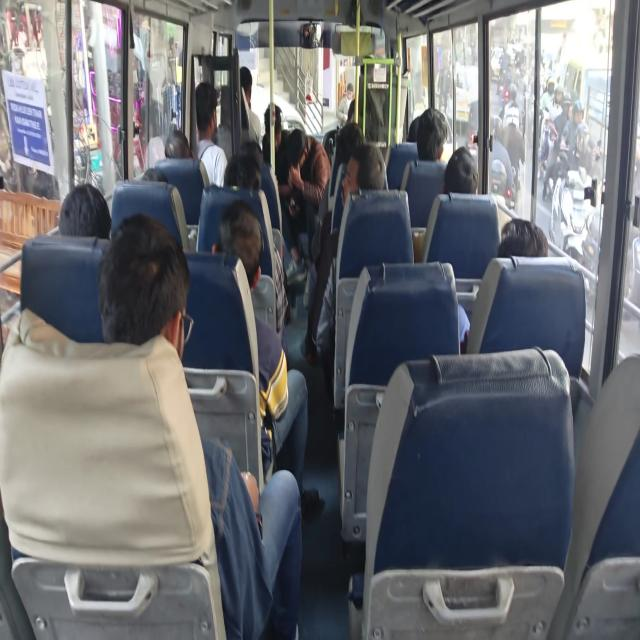person: (106, 240, 202, 323), (220, 161, 278, 224), (209, 197, 262, 250), (491, 206, 534, 269), (114, 159, 172, 201), (62, 183, 107, 237), (449, 143, 489, 198), (149, 106, 193, 152), (185, 86, 228, 131), (326, 119, 367, 163), (343, 147, 384, 185), (416, 109, 449, 152), (259, 82, 286, 122), (282, 131, 306, 172), (236, 62, 265, 92), (239, 130, 266, 162)
